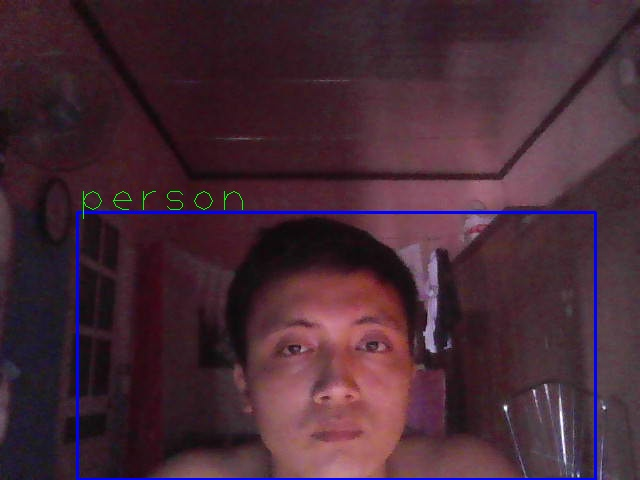person: (77, 212, 596, 480)
